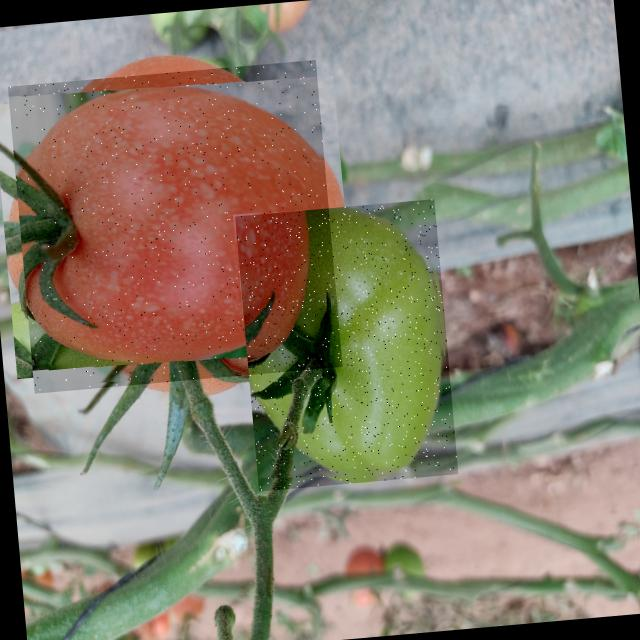Ripe Tomato: (8, 59, 342, 393)
Unripe Tomato: (235, 199, 458, 491)
